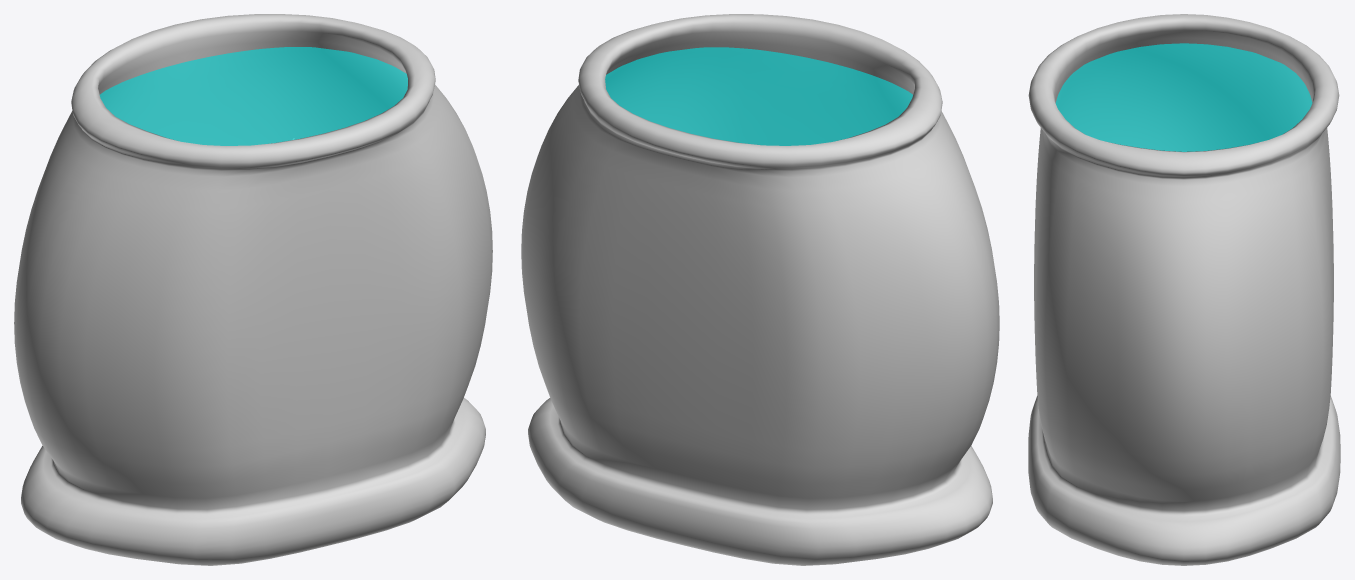
File: fishy.fbx
3 renders of one model, left to right at view 1: azimuth 30°, elevation 25°; view 2: azimuth 150°, elevation 25°; view 3: azimuth 270°, elevation 25°, orthographic. The views are drawn at different scales.
Visible parts, largest first — view 1: Fishbowl, Water; view 2: Fishbowl, Water; view 3: Fishbowl, Water.
Part boxes in pixels (x1,y1,x2,y2): Fishbowl: (14, 14, 492, 565); Water: (100, 47, 407, 145); Fishbowl: (521, 14, 999, 565); Water: (605, 47, 912, 145); Fishbowl: (1028, 14, 1340, 565); Water: (1055, 43, 1312, 151).
Bounding box in the file's own units: 15.77 × 13.63 × 9.81.
